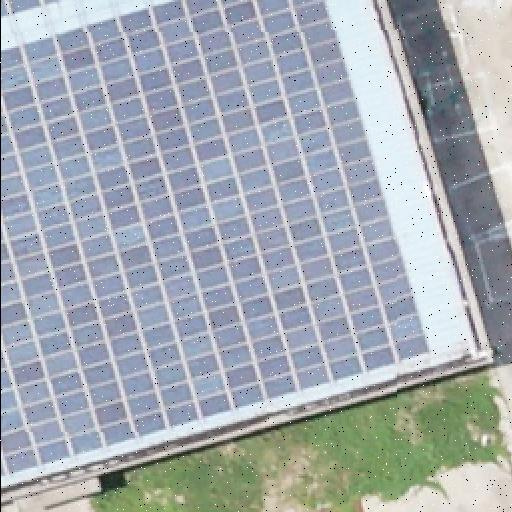solar-panel: (0, 1, 424, 479), (0, 0, 64, 20)
